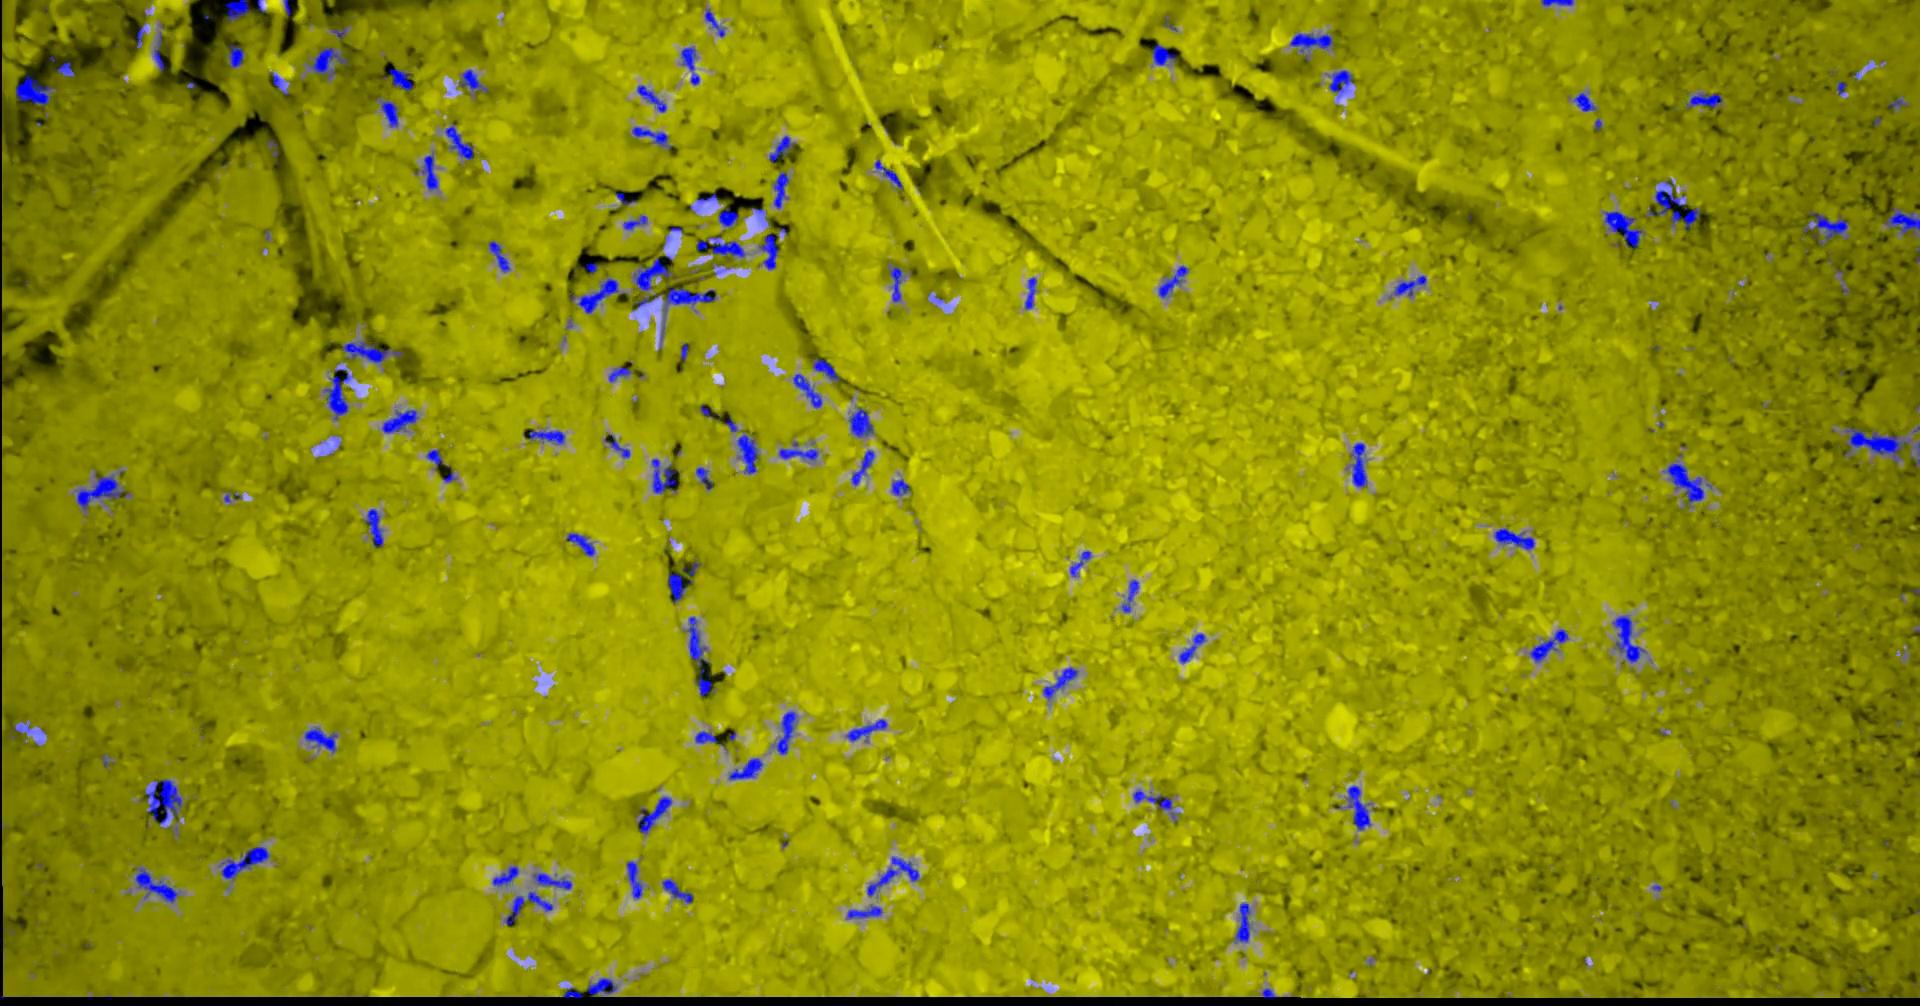ant: (660, 287, 715, 340), (1648, 179, 1699, 229), (1843, 426, 1907, 464), (686, 616, 714, 696), (866, 856, 918, 895), (138, 779, 182, 824), (76, 474, 128, 509), (218, 846, 269, 879), (504, 890, 552, 925), (1662, 464, 1703, 504), (1611, 615, 1644, 662), (135, 868, 178, 902), (577, 278, 617, 312), (342, 340, 403, 363), (1604, 210, 1641, 246), (323, 368, 349, 419), (1808, 211, 1848, 245), (632, 257, 672, 290), (1529, 629, 1568, 662), (1131, 789, 1175, 818), (637, 796, 670, 833), (15, 74, 55, 104), (309, 47, 347, 77), (696, 236, 744, 259), (1043, 667, 1077, 699), (444, 122, 472, 159), (1347, 785, 1370, 829), (1158, 265, 1189, 297), (792, 373, 822, 406), (846, 718, 886, 741), (1884, 207, 1919, 234), (651, 459, 678, 493), (631, 126, 670, 149), (776, 711, 796, 754), (874, 159, 902, 189), (381, 409, 418, 432), (851, 448, 874, 485), (303, 727, 337, 752), (1495, 528, 1534, 549), (636, 85, 665, 112), (1178, 633, 1205, 662), (737, 434, 757, 473), (758, 232, 778, 269), (1290, 33, 1332, 51), (848, 406, 872, 437), (662, 879, 692, 903), (1350, 442, 1366, 486), (488, 240, 510, 272), (778, 441, 817, 460), (1390, 276, 1426, 296), (768, 135, 794, 163), (364, 508, 382, 547), (728, 758, 762, 779), (458, 69, 488, 91), (681, 47, 698, 84), (532, 873, 571, 889), (1328, 70, 1352, 97), (667, 572, 687, 602), (1234, 902, 1250, 942), (626, 861, 643, 898), (811, 358, 839, 380), (566, 533, 594, 555), (422, 151, 437, 191), (703, 8, 724, 37), (1686, 91, 1722, 108), (604, 433, 629, 457), (585, 977, 616, 996), (491, 865, 518, 887), (389, 67, 411, 91), (223, 0, 249, 22), (1121, 579, 1138, 612), (773, 171, 789, 207), (378, 99, 397, 127), (1150, 43, 1175, 65), (152, 30, 165, 71), (1069, 550, 1090, 575), (527, 429, 564, 443), (846, 904, 881, 918), (425, 448, 450, 467), (889, 265, 902, 301), (1572, 91, 1595, 111), (681, 561, 700, 583), (270, 72, 288, 95), (695, 467, 712, 490), (1023, 277, 1036, 309), (717, 207, 738, 226), (635, 293, 659, 309), (623, 215, 648, 229), (608, 366, 630, 381), (229, 44, 243, 67), (56, 61, 74, 77), (891, 479, 909, 495), (695, 730, 716, 743), (563, 987, 582, 998), (135, 24, 143, 48), (1542, 0, 1573, 6), (1887, 97, 1905, 107), (267, 138, 277, 156)
